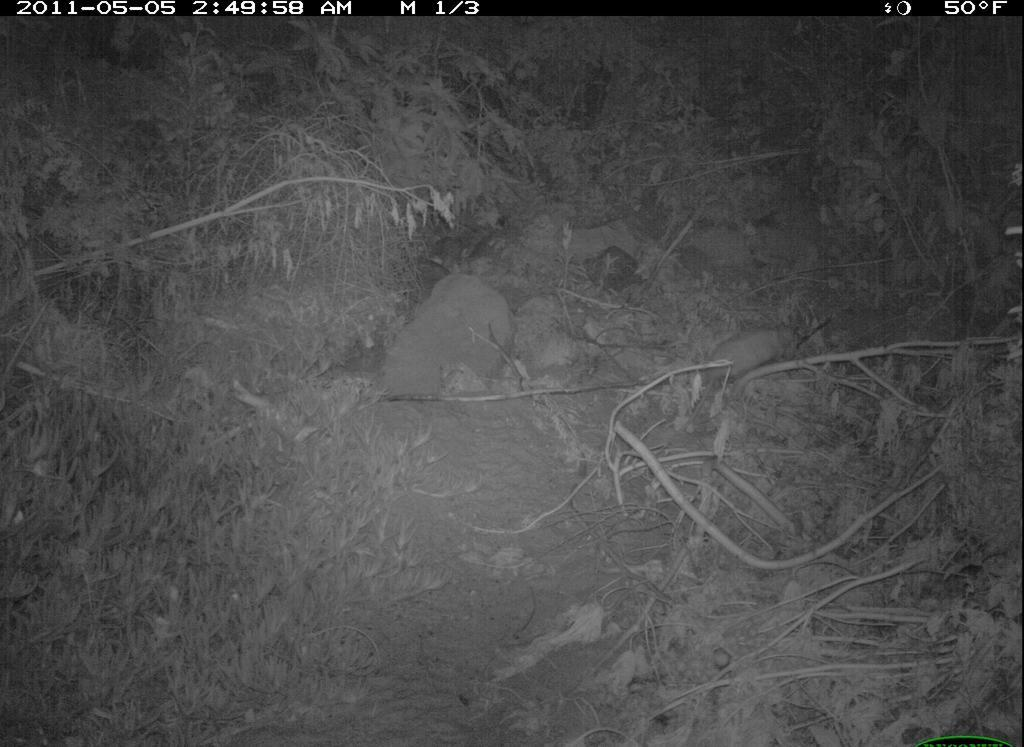opossum: (683, 314, 822, 409)
